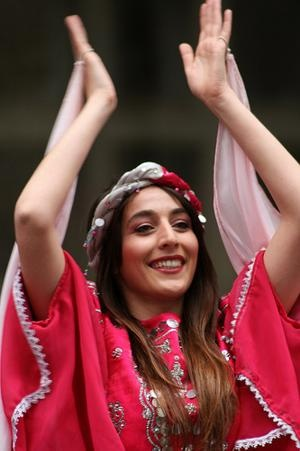person without safety: (11, 155, 300, 434)
